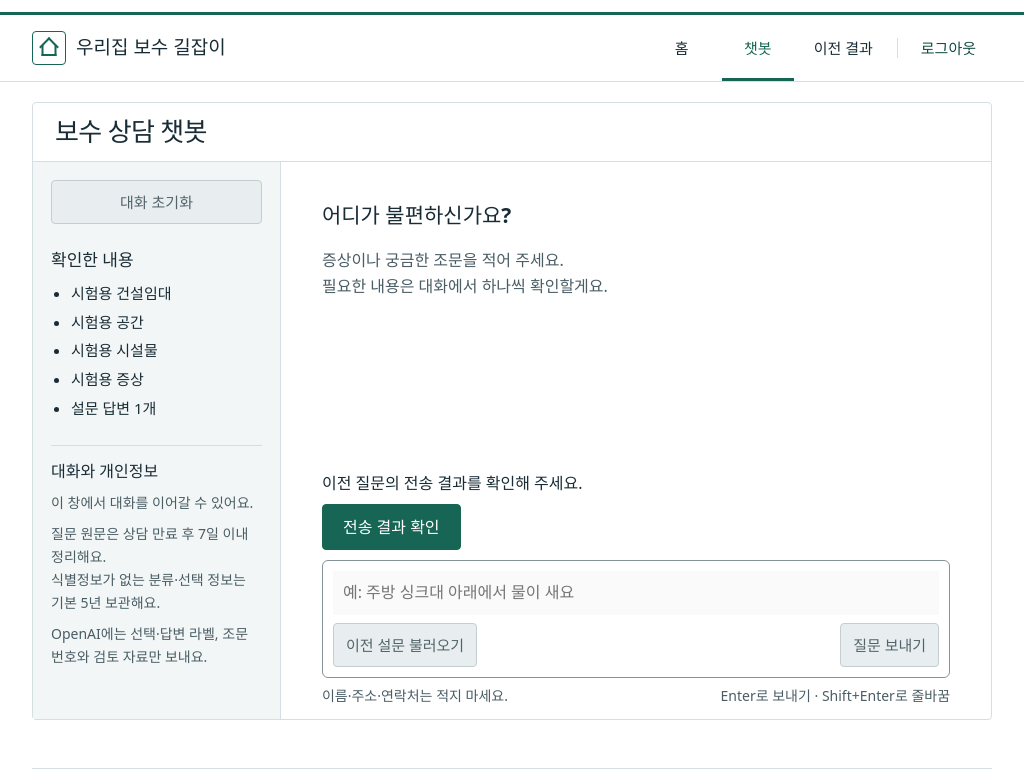
it: restores pending IDs after reload and respects deleted requests without resending
This screenshot has width=1024, height=780.
Click the button "전송 결과 확인": (391, 527) 322,504 -> 461,550
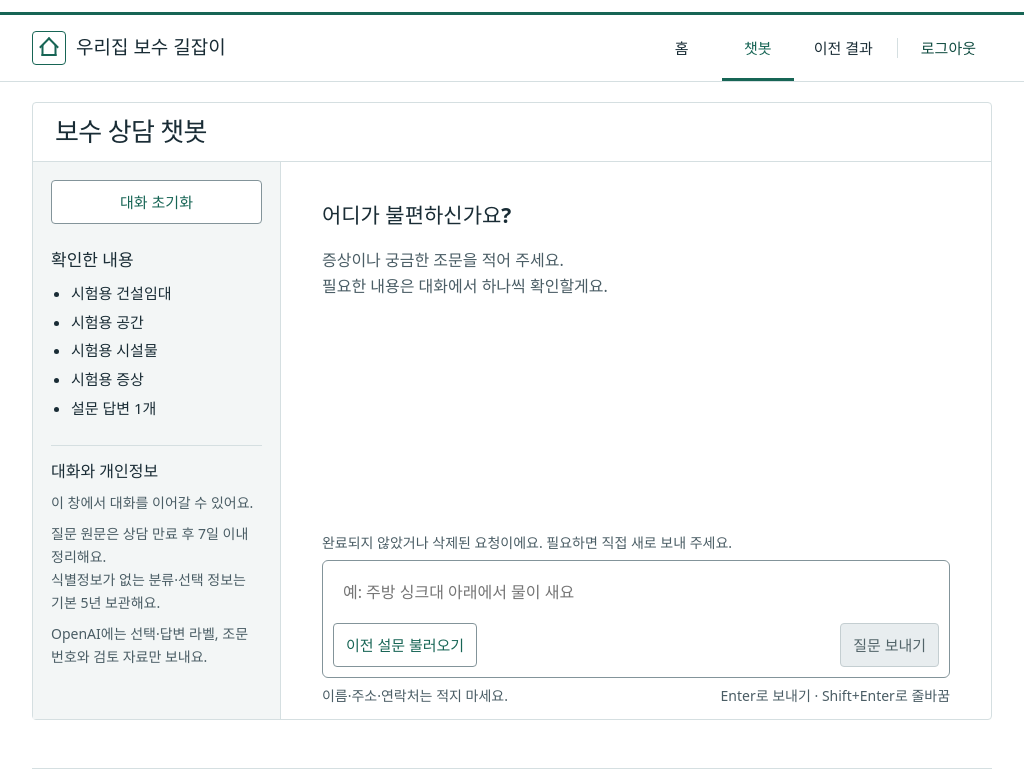
Result: the text "완료되지 않았거나 삭제된 요청" is shown at 322,533 -> 732,552
